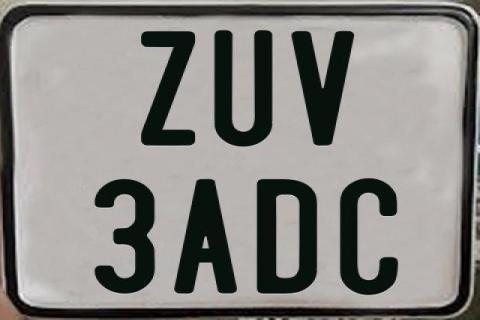0: (94, 177, 158, 295)
A: (173, 177, 238, 293)
C: (340, 178, 399, 298)
D: (255, 179, 318, 297)
U: (214, 31, 273, 151)
V: (290, 30, 357, 150)
Z: (140, 29, 198, 143)
